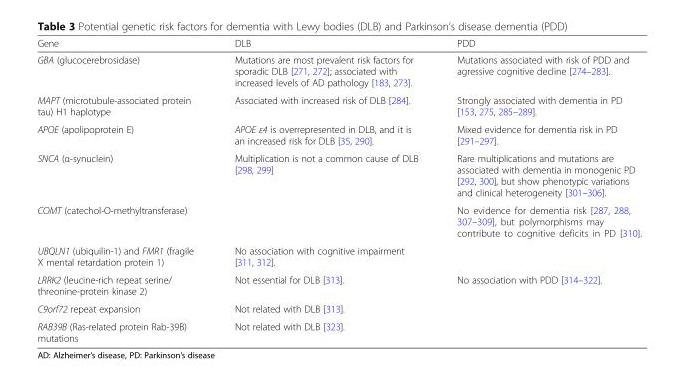table: (36, 37, 641, 343)
table column: (213, 37, 436, 343), (436, 37, 641, 343), (36, 37, 213, 343)
table column header: (36, 37, 641, 51)
table row: (36, 148, 641, 200), (36, 200, 641, 241), (36, 51, 641, 91), (36, 119, 641, 148), (36, 241, 641, 270), (36, 270, 641, 299), (36, 91, 641, 119), (36, 317, 641, 343), (36, 299, 641, 317), (36, 37, 641, 51)
table spanning cell: (213, 241, 641, 270)
